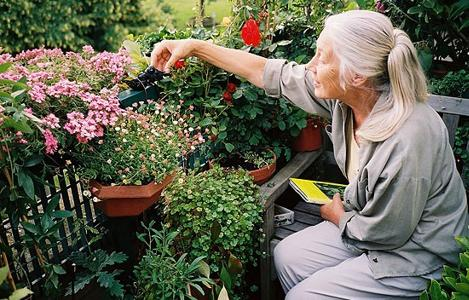person: (153, 11, 469, 300)
